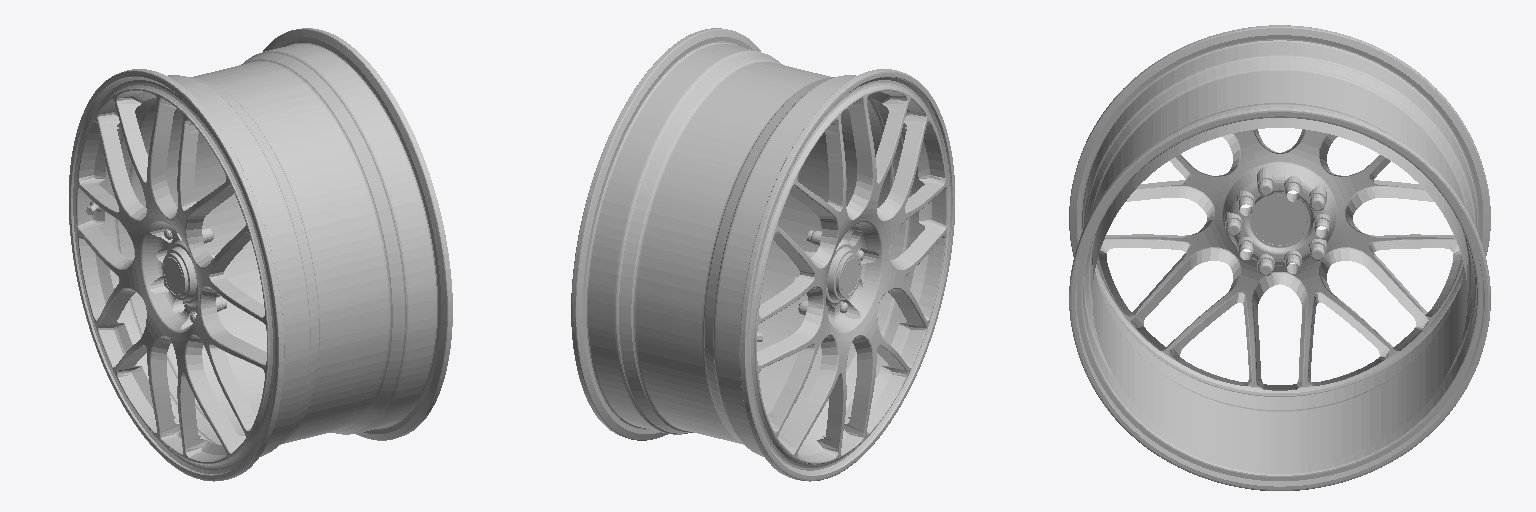
File: tire_rim.obj
3 renders of one model, left to right at view 1: azimuth 30°, elevation 25°; view 2: azimuth 150°, elevation 25°; view 3: azimuth 270°, elevation 25°, orthographic.
Parts seen in each view (by area): view 1: Rim; view 2: Rim; view 3: Rim.
Part boxes in pixels (bbox=[...]): Rim: bbox=[69, 28, 452, 481]; Rim: bbox=[571, 28, 954, 481]; Rim: bbox=[1069, 25, 1490, 490].
Bounding box in the file's own units: 0.2593 × 0.5132 × 0.5132.